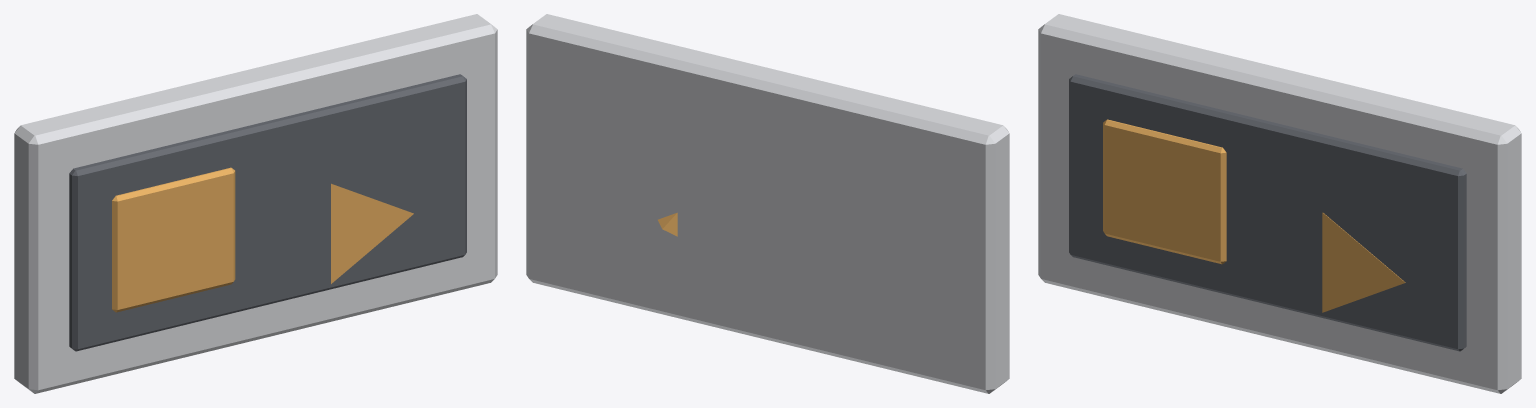
The model's file is office-lobby-and-facilities-lift-floor-indicator-26a55fde__26161.glb.
3 views of the same model, side by side, from view 1: azimuth 30°, elevation 25°; view 2: azimuth 150°, elevation 25°; view 3: azimuth 330°, elevation 25° (orthographic).
Visible parts, largest first — view 1: lift-floor-indicator; view 2: lift-floor-indicator; view 3: lift-floor-indicator.
Part boxes in pixels (x1,y1,x2,y2): lift-floor-indicator: (14,14,497,393); lift-floor-indicator: (526,14,1009,393); lift-floor-indicator: (1038,14,1521,393).
Bounding box in the file's own units: 0.38 × 0.2 × 0.053.
